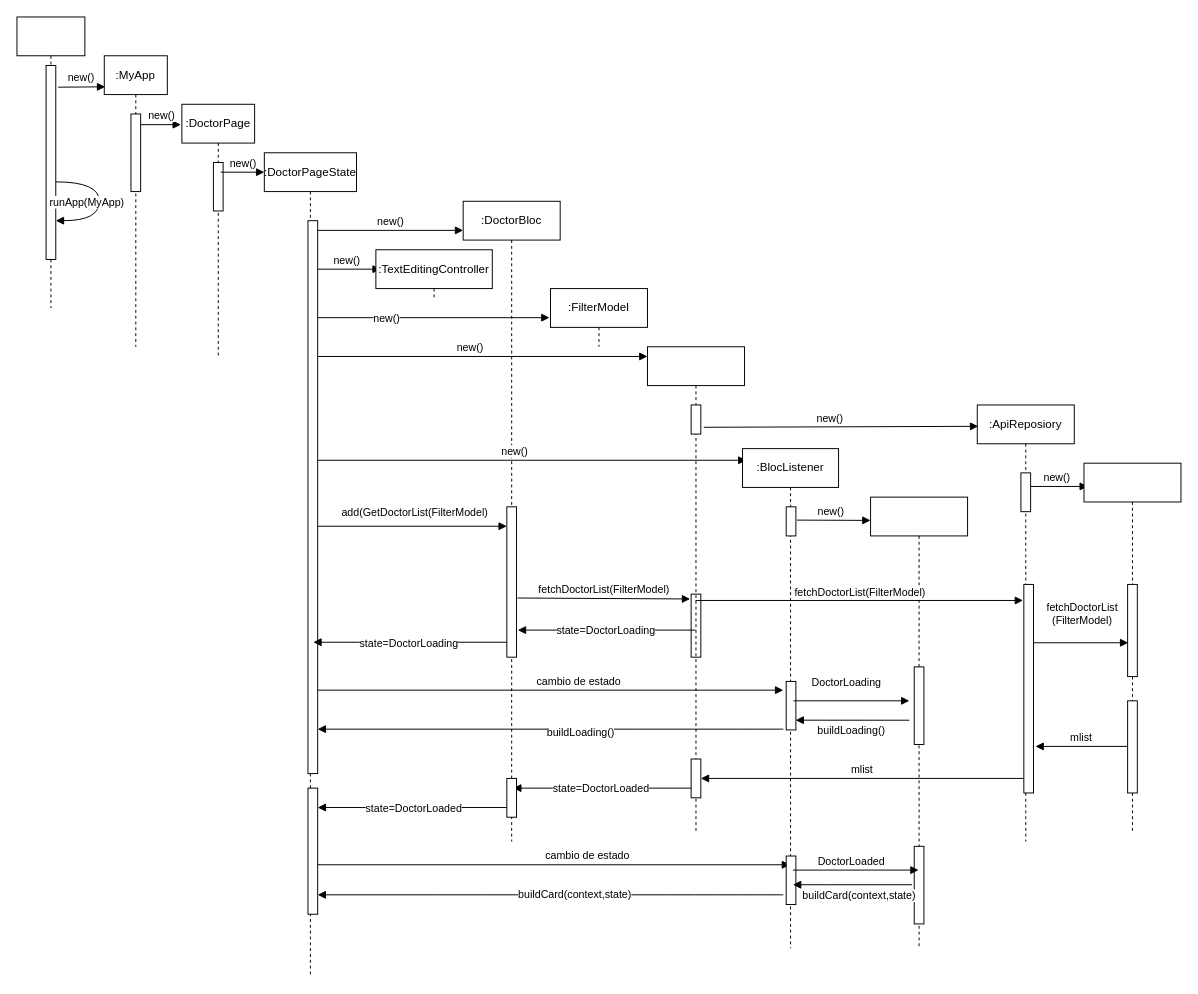
Image size: 1198x994. Some labels were removed from this diagram. The shapes that lost their labels are listed below. From the top down, each one's box as (x1, y1, x2, y2) in pixels, then its label:
(16, 16, 85, 308): :main
(647, 346, 744, 832): :GetDoctorList
(1083, 462, 1181, 832): :ApiProvider
(870, 496, 968, 948): :BlocBuilder
